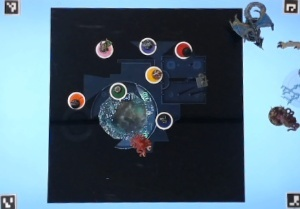blue: (153, 108, 179, 132)
green: (106, 80, 126, 101)
orange: (63, 90, 87, 112)
pink: (94, 39, 114, 59)
red: (172, 37, 192, 60)
violet: (136, 36, 157, 56)
yellow: (142, 63, 164, 84)
